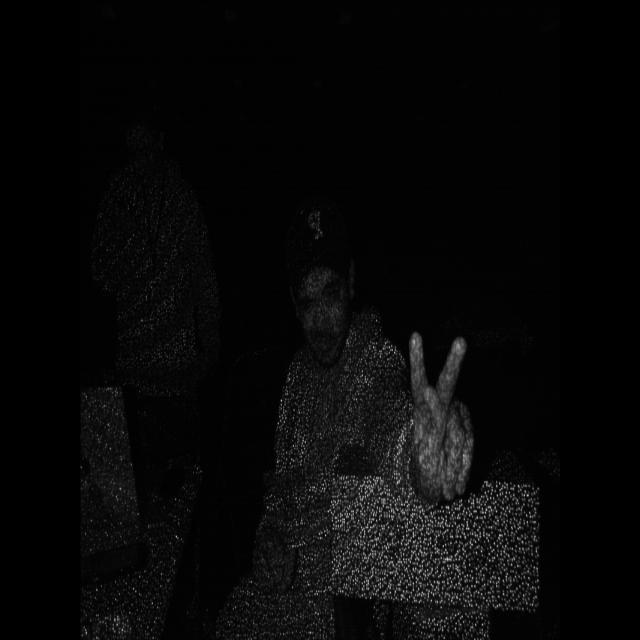V: (396, 311, 476, 502)
